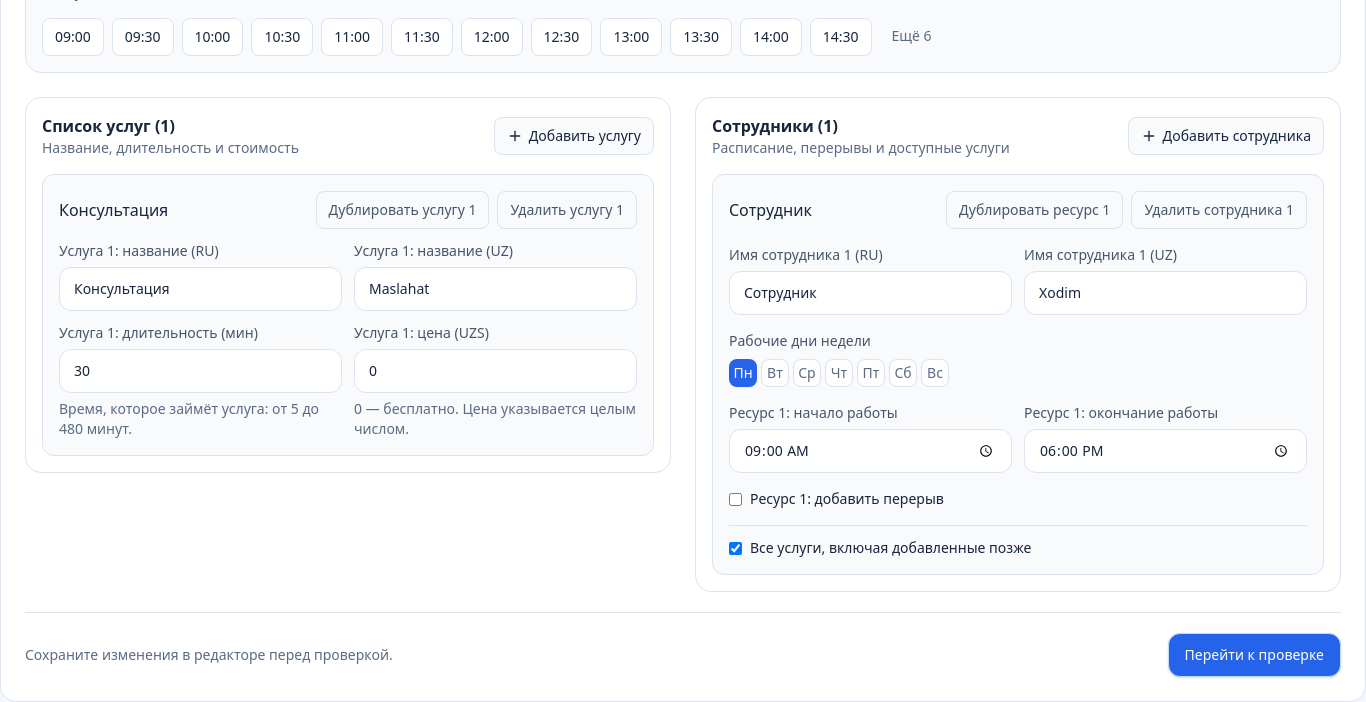
Настройка → проверка → запуск › не использует старую успешную проверку после сетевой ошибки
(page scrolled)
Click the button "Перейти к проверке".
click(1254, 655)  # box 1168,633 -> 1341,677
(page scrolled)
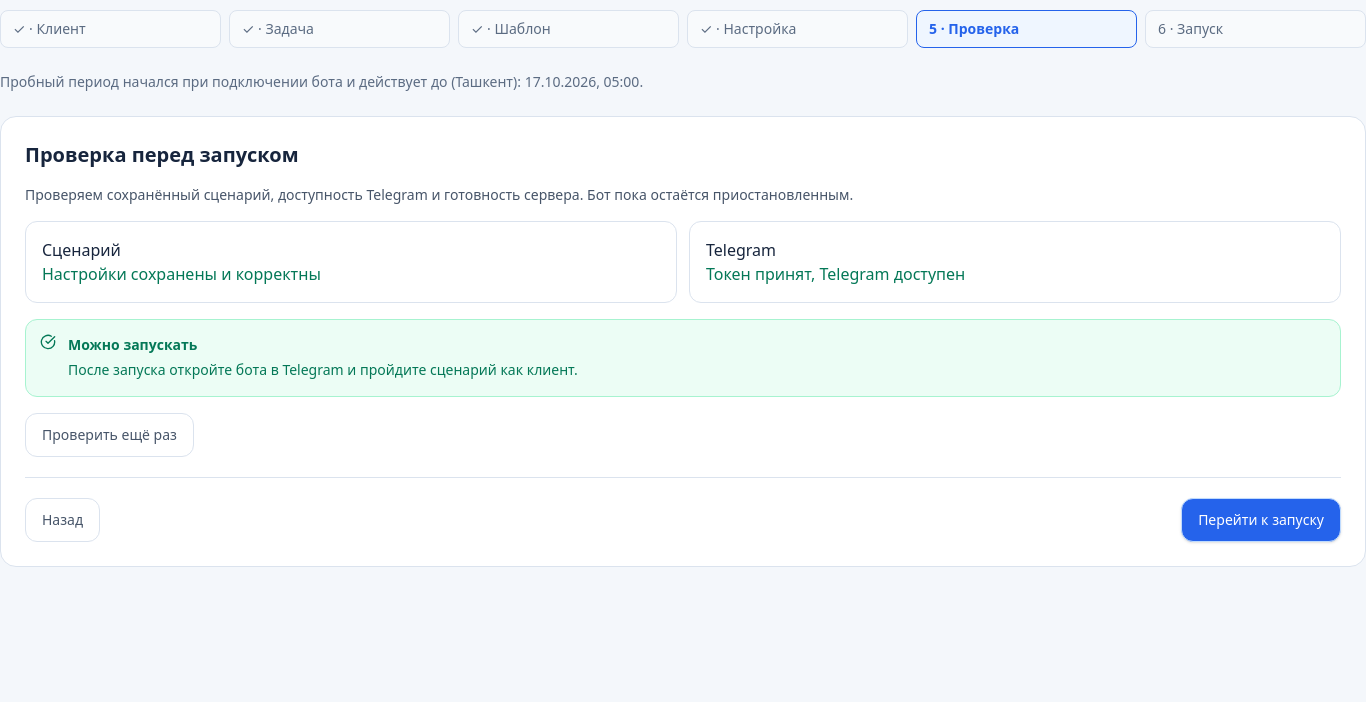
Check: the text "Можно запускать" is shown, box 68,335 -> 197,354
Click the button "Проверить ещё раз".
click(110, 434)  # box 25,412 -> 194,456
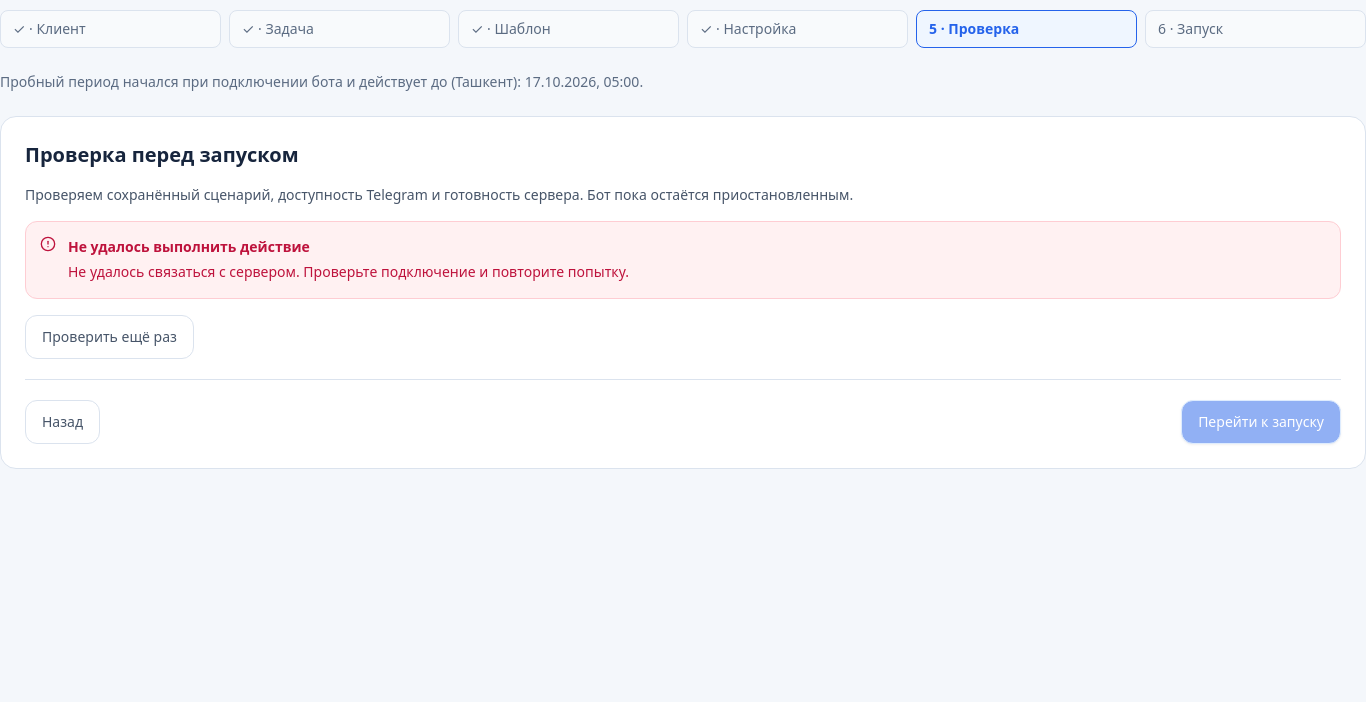
Check: the text "Не удалось связаться с сервером" is shown, box 68,262 -> 629,281
Check: the text "Можно запускать" is gone
Check: the button "Перейти к запуску" is disabled, box 1181,400 -> 1341,444
